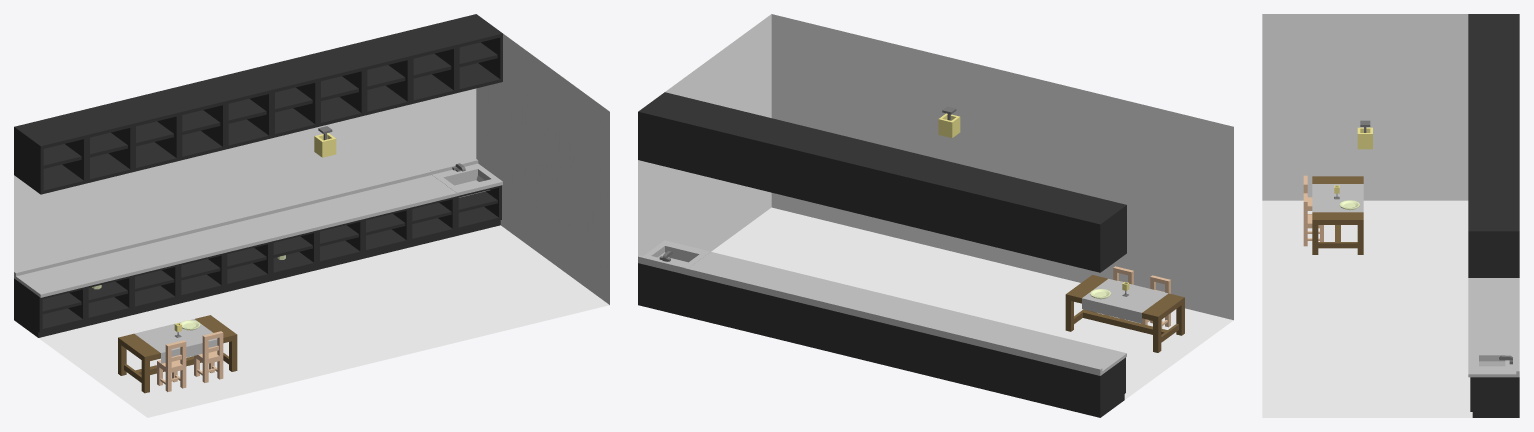
Rendered from Experiment.glb.
3 views of the same model, side by side, from view 1: azimuth 30°, elevation 25°; view 2: azimuth 150°, elevation 25°; view 3: azimuth 270°, elevation 25° (orthographic). The views are drawn at different scales.
Visible parts, largest first — view 1: Room, Cabinet, Table, Sink, Chair, CeilingLamp; view 2: Room, Cabinet, Table, Sink, Chair, CeilingLamp; view 3: Room, Cabinet, Sink, Table, Chair, CeilingLamp.
Boxes of the visible parts, x1,y1,x2,y2 form: Room: (14, 33, 609, 417); Cabinet: (14, 14, 502, 337); Table: (118, 315, 237, 393); Sink: (430, 159, 502, 236); Chair: (157, 331, 223, 391); CeilingLamp: (314, 126, 336, 157); Room: (638, 14, 1233, 399); Cabinet: (638, 92, 1126, 417); Table: (1065, 275, 1184, 352); Sink: (638, 240, 710, 316); Chair: (1105, 266, 1170, 328); CeilingLamp: (938, 106, 960, 137); Room: (1262, 14, 1472, 417); Cabinet: (1468, 14, 1519, 352); Sink: (1468, 349, 1519, 417); Table: (1312, 176, 1363, 254); Chair: (1303, 175, 1323, 246); CeilingLamp: (1357, 120, 1372, 149).
Bounding box in the file's own units: 10 × 4 × 5.
